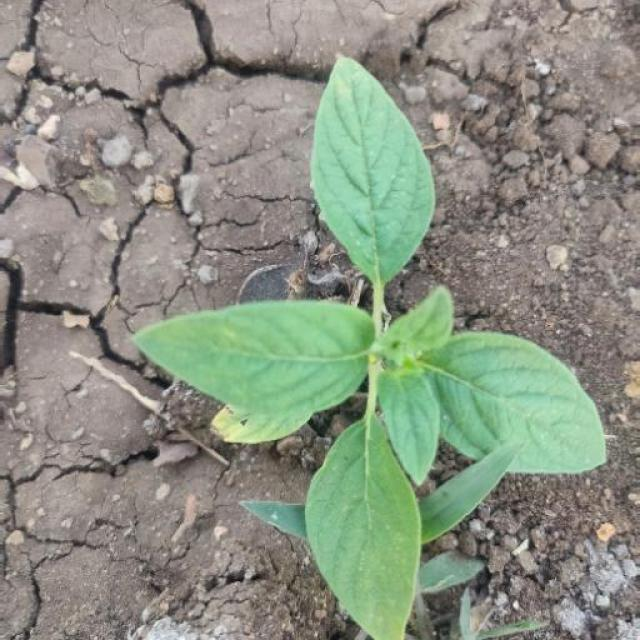crop: (125, 50, 609, 640)
